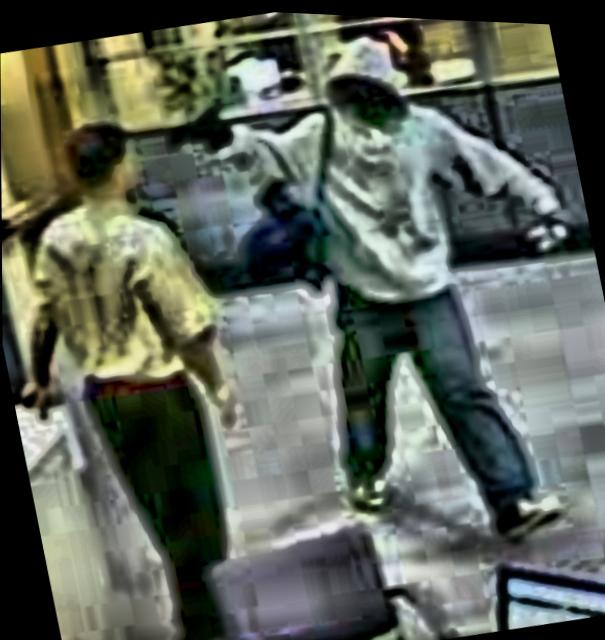pistol: (156, 97, 225, 166)
